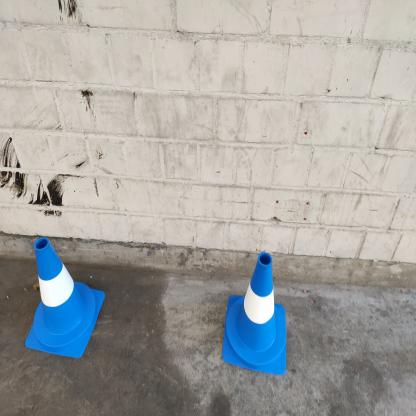Cones_small_orange: (19, 218, 108, 387)
